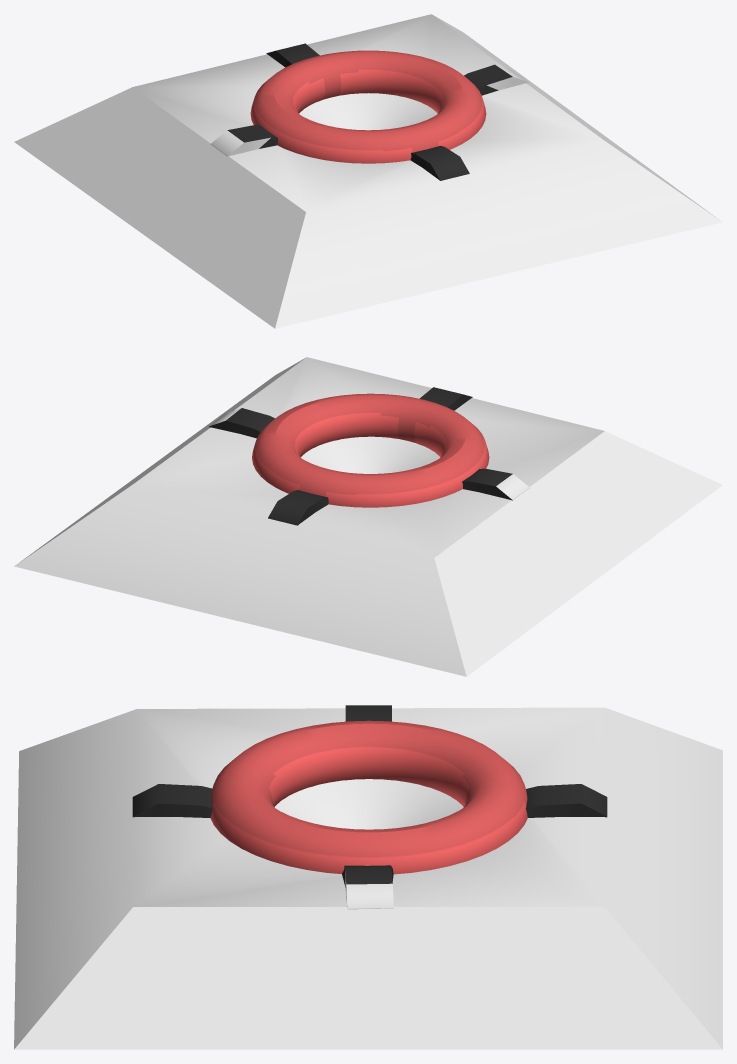
Rendered from goal.fbx.
3 renders of one model, top to bottom at view 1: azimuth 30°, elevation 25°; view 2: azimuth 150°, elevation 25°; view 3: azimuth 270°, elevation 25°, orthographic. The views are drawn at different scales.
Visible parts, largest first — view 1: Cube.013; view 2: Cube.013; view 3: Cube.013.
Boxes of the visible parts, x1=… form: Cube.013: x1=14, y1=14, x2=722, y2=328; Cube.013: x1=14, y1=357, x2=722, y2=676; Cube.013: x1=14, y1=705, x2=722, y2=1049.
Bounding box in the file's own units: 300 × 57.12 × 301.
